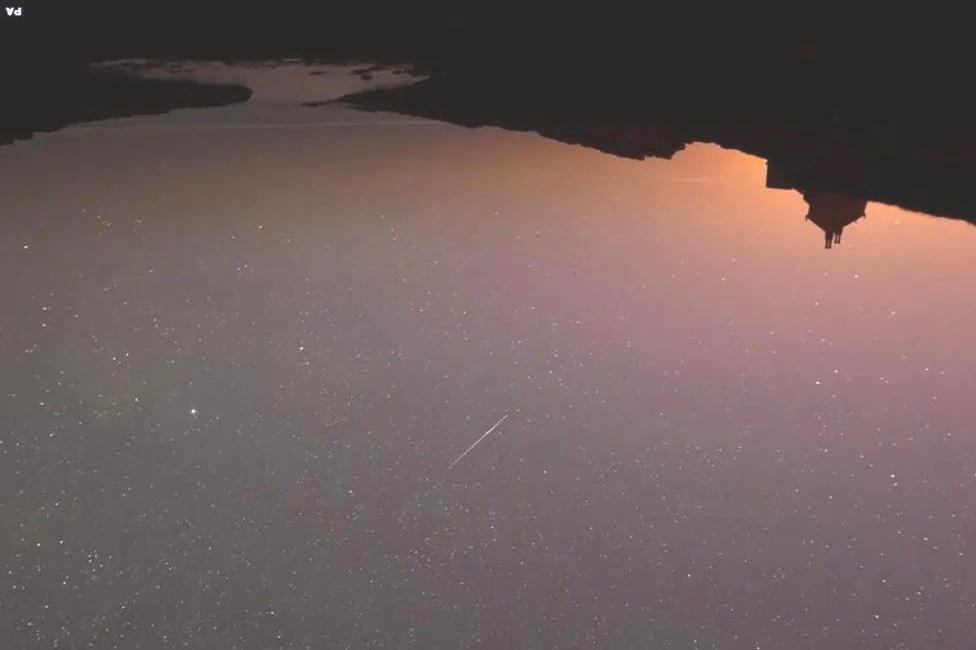meteorite: (434, 408, 519, 472)
